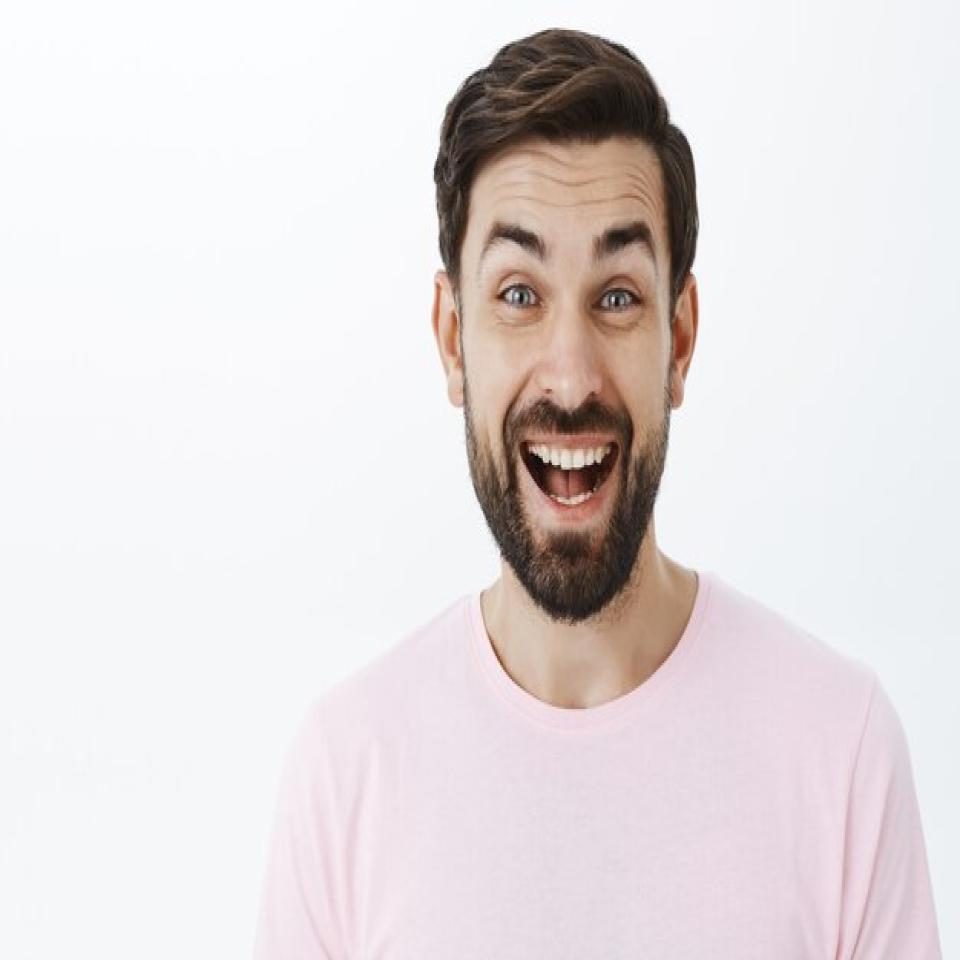Happiness: (459, 156, 674, 620)
